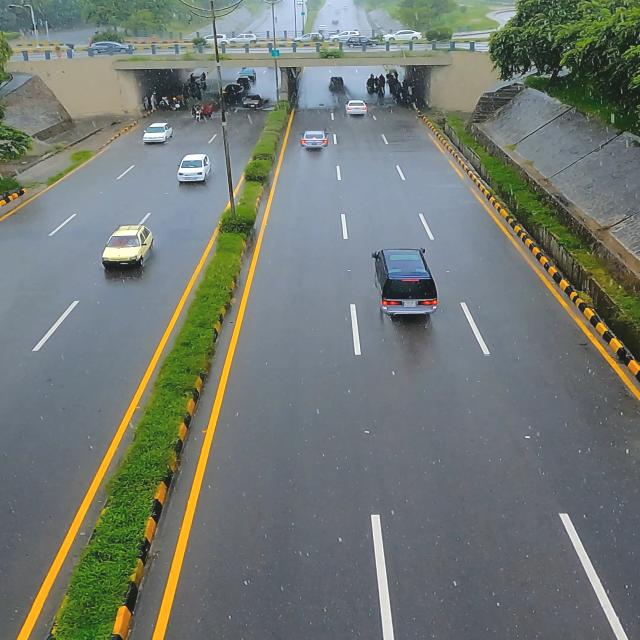Vehicle: (363, 245, 440, 324), (98, 223, 151, 279), (173, 152, 212, 188), (141, 115, 176, 150)
